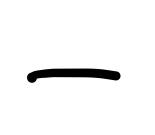minus: (27, 68, 120, 83)
